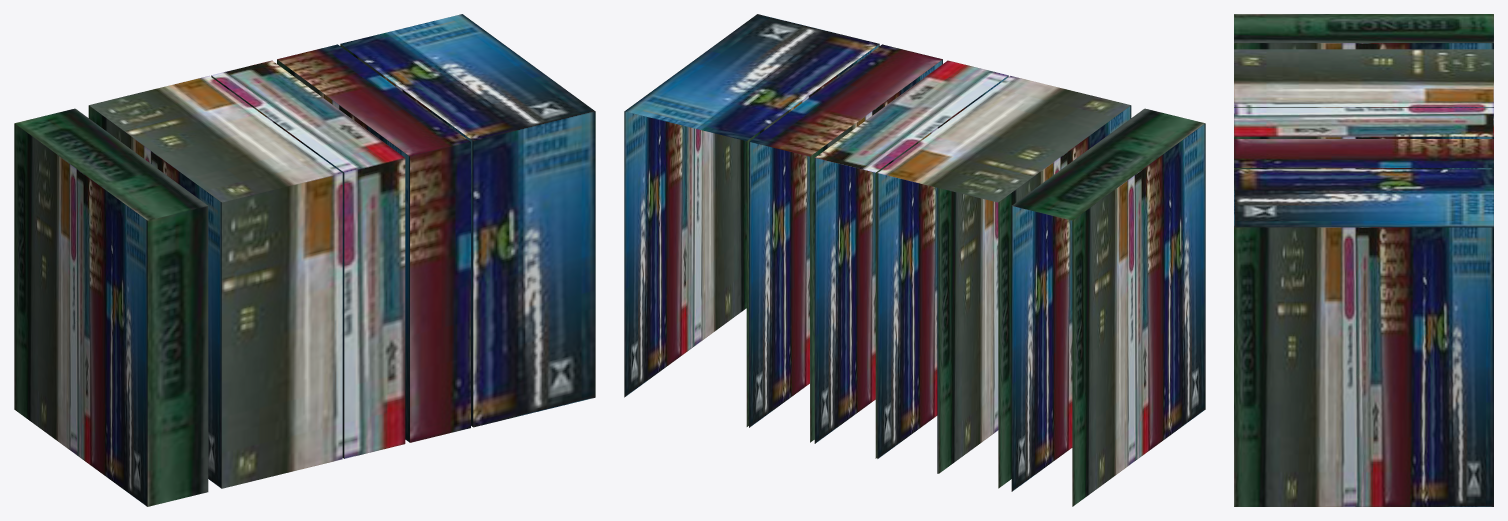
Rendered from BookA02.FBX.
3 views of the same model, side by side, from view 1: azimuth 30°, elevation 25°; view 2: azimuth 150°, elevation 25°; view 3: azimuth 270°, elevation 25° (orthographic). The views are drawn at different scales.
Visible parts, largest first — view 1: BookA02; view 2: BookA02; view 3: BookA02.
Boxes of the visible parts, box(x1,y1,x2,y2) form: BookA02: box(14, 14, 595, 506); BookA02: box(624, 14, 1205, 506); BookA02: box(1234, 14, 1493, 506).
Bounding box in the file's own units: 81.35 × 49.67 × 41.84.
